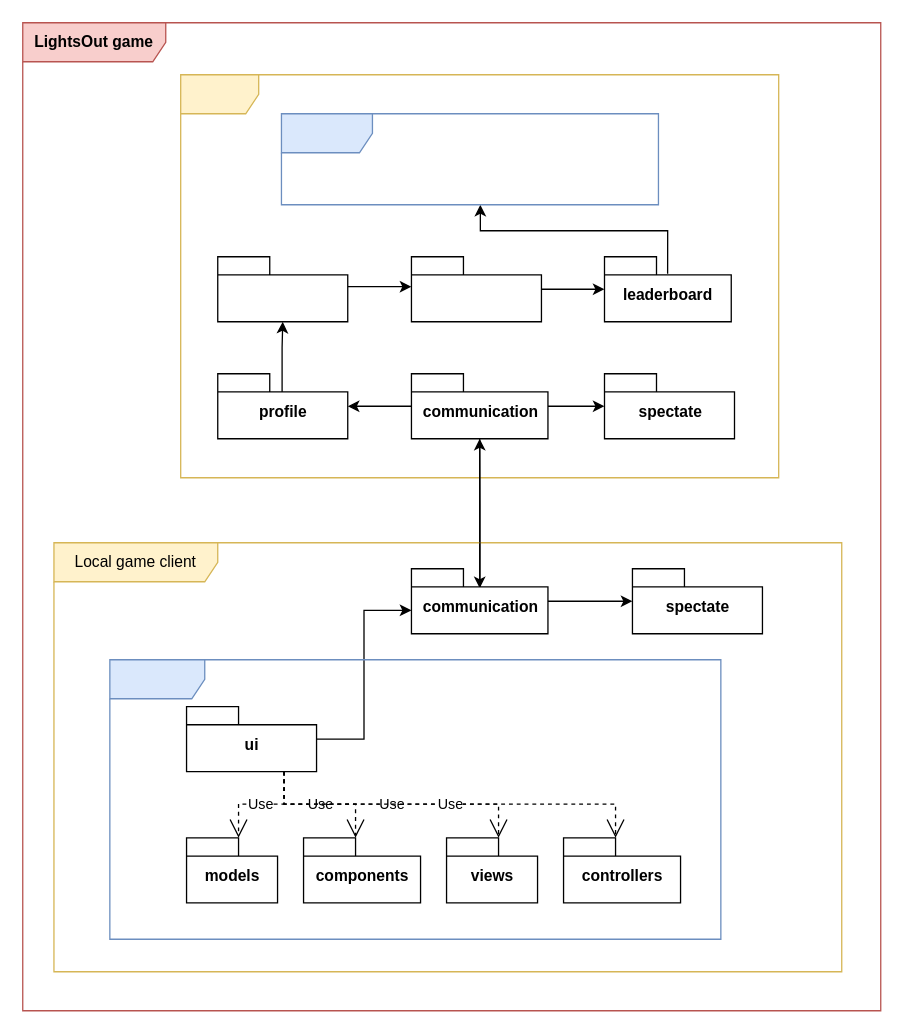
This 903x1034 diagram has some shape labels left out. Here are the shapes that lost their labels. From the top down, the box of each, then its label:
(280, 112, 658, 205): Database
(216, 255, 348, 322): anti_cheat
(410, 255, 541, 322): logic
(179, 73, 779, 478): Server
(109, 658, 721, 939): Front End
